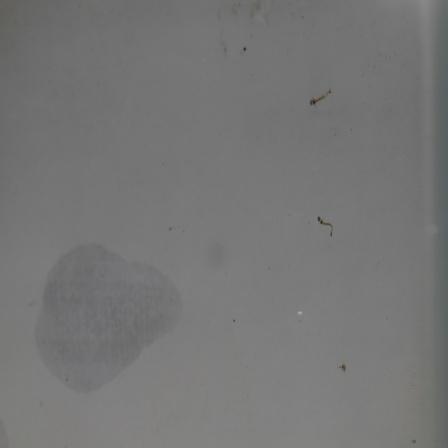Jentik-Nyamuk: (307, 86, 333, 110), (315, 210, 337, 238)
